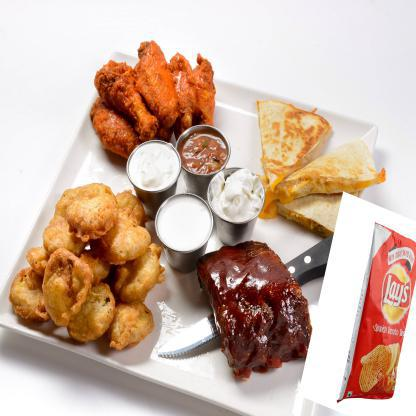tangy_tomato: (337, 216, 415, 404)
